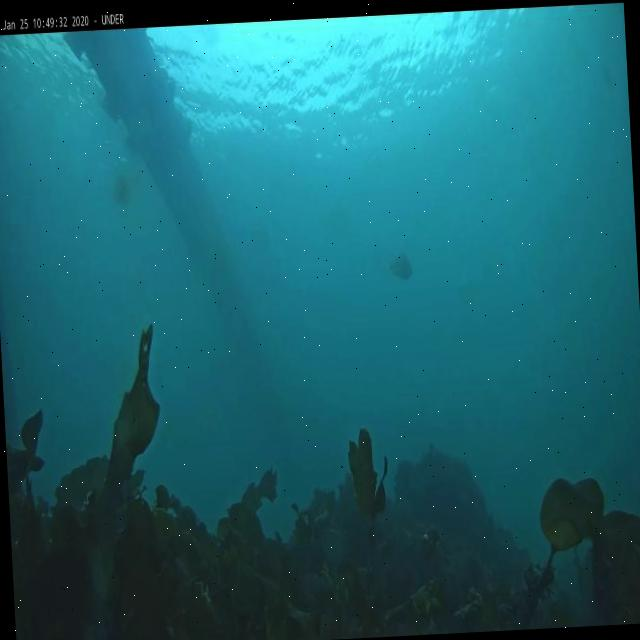fish: (386, 250, 412, 281)
